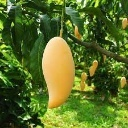mango: (42, 37, 75, 109), (118, 76, 127, 90), (88, 66, 96, 78), (121, 17, 128, 30), (79, 81, 85, 90)
